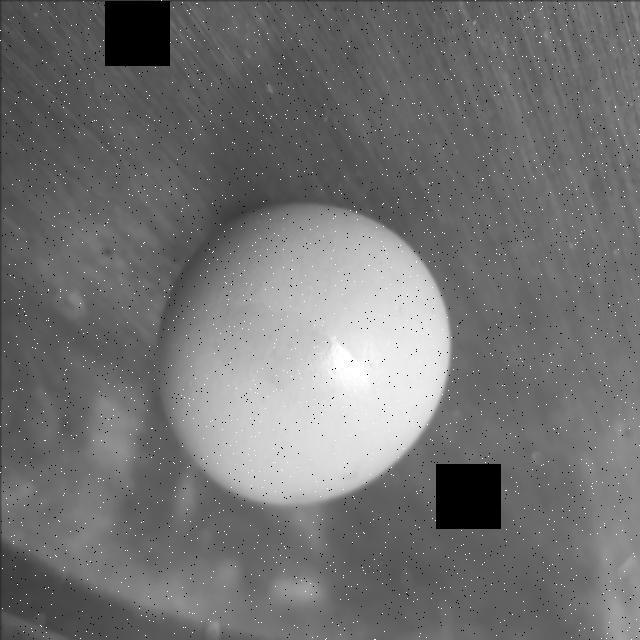egg: (150, 192, 458, 512)
